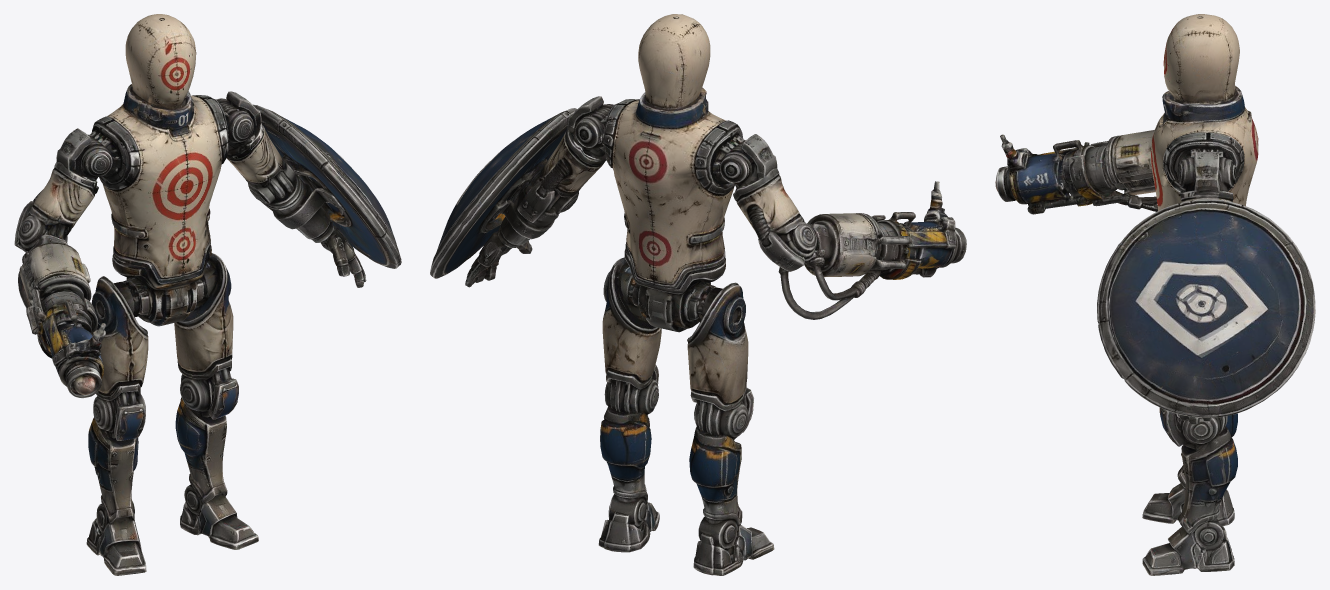
The model's file is shooting_dummy2.glb.
The picture shows the model from 3 angles, left to right: view 1: azimuth 30°, elevation 25°; view 2: azimuth 150°, elevation 25°; view 3: azimuth 270°, elevation 25°; orthographic projection. The views are drawn at different scales.
Bounding box in the file's own units: 1.56 × 1.9 × 1.05.
1 material, 1 textured.
